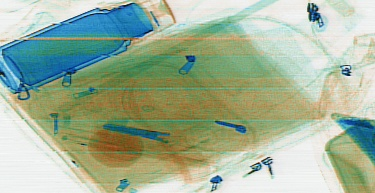scissors: (100, 122, 218, 161)
